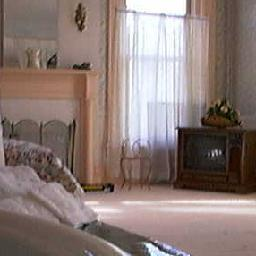Ventana: (117, 14, 194, 140)
